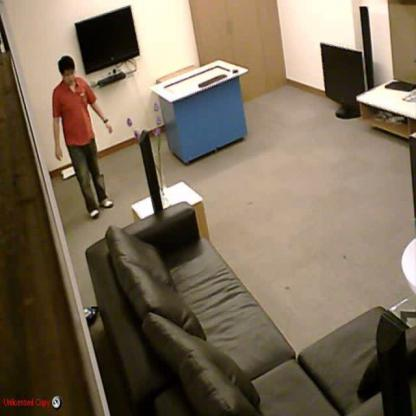Person: (52, 56, 113, 220)
